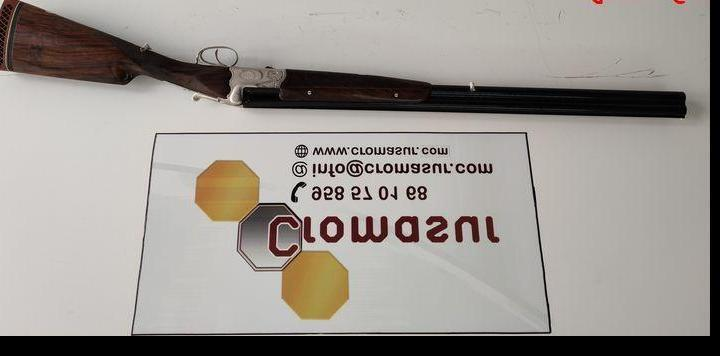larga: (0, 1, 688, 118)
